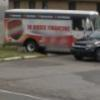buses: (3, 6, 100, 52)
